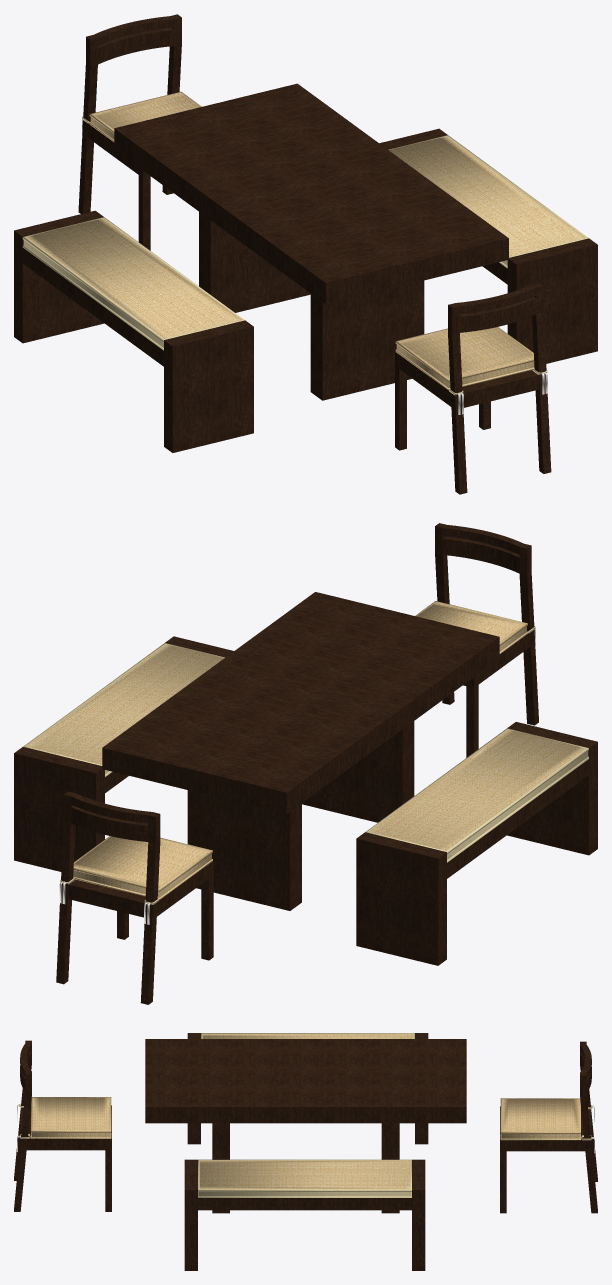
3 views of the same model, one above another, from view 1: azimuth 30°, elevation 25°; view 2: azimuth 150°, elevation 25°; view 3: azimuth 270°, elevation 25° (orthographic). The views are drawn at different scales.
Parts seen in each view (by area): view 1: WE___Terra___Dining_Table (×3), WE___Terra___Bench (×2), WE___Terra___Woven_Braided_Jute_Bench_Cushion (×4), WE___Tilt_Chair (×2), WE___Tilt___Woven_Seat_no_Straps (×4); view 2: WE___Terra___Dining_Table (×3), WE___Terra___Bench (×2), WE___Terra___Woven_Braided_Jute_Bench_Cushion (×4), WE___Tilt_Chair (×2), WE___Tilt___Woven_Seat_no_Straps (×4); view 3: WE___Terra___Dining_Table (×3), WE___Terra___Woven_Braided_Jute_Bench_Cushion (×5), WE___Tilt___Woven_Seat_no_Straps (×6), WE___Terra___Bench (×2), WE___Tilt_Chair (×2).
Boxes of the visible parts, <box> form: WE___Terra___Dining_Table (×3): <box>114,83,508,400</box>; WE___Terra___Bench (×2): <box>14,128,597,452</box>; WE___Terra___Woven_Braided_Jute_Bench_Cushion (×4): <box>22,136,585,347</box>; WE___Tilt_Chair (×2): <box>78,14,551,494</box>; WE___Tilt___Woven_Seat_no_Straps (×4): <box>93,93,534,387</box>; WE___Terra___Dining_Table (×3): <box>102,592,499,910</box>; WE___Terra___Bench (×2): <box>14,636,597,965</box>; WE___Terra___Woven_Braided_Jute_Bench_Cushion (×4): <box>26,644,588,859</box>; WE___Tilt_Chair (×2): <box>56,523,538,1004</box>; WE___Tilt___Woven_Seat_no_Straps (×4): <box>73,602,524,897</box>; WE___Terra___Dining_Table (×3): <box>145,1039,466,1213</box>; WE___Terra___Woven_Braided_Jute_Bench_Cushion (×5): <box>198,1034,413,1197</box>; WE___Tilt___Woven_Seat_no_Straps (×6): <box>31,1097,580,1138</box>; WE___Terra___Bench (×2): <box>184,1033,428,1270</box>; WE___Tilt_Chair (×2): <box>14,1040,597,1213</box>.
Size of the model in its own units: 83.16 by 131 by 34.
Materials: 4 (3 with a texture image).
